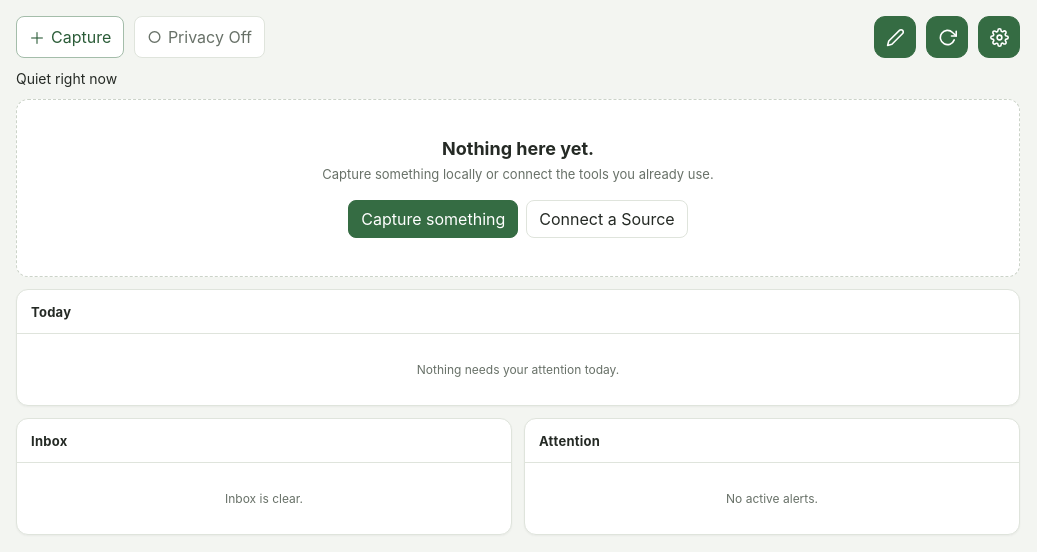
it: renders successful provider data after a partial sync failure
Click the button named "Sync". click: (947,37)
box: [926,16,968,58]
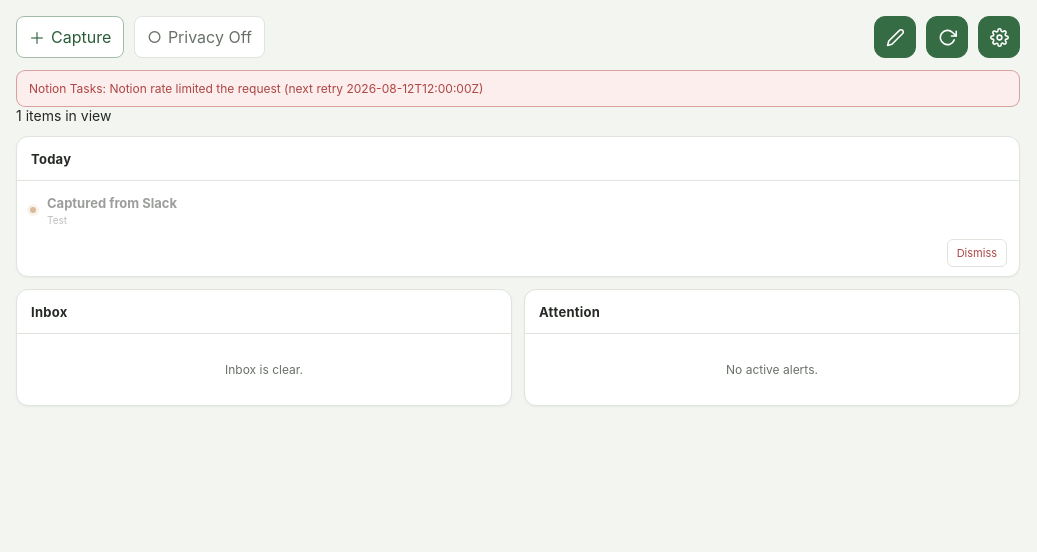
Expected: the text "Captured from Slack" is shown, [47,194,177,210]
Expected: the text "Notion Tasks: Notion rate limited" is shown, [29,81,483,96]
